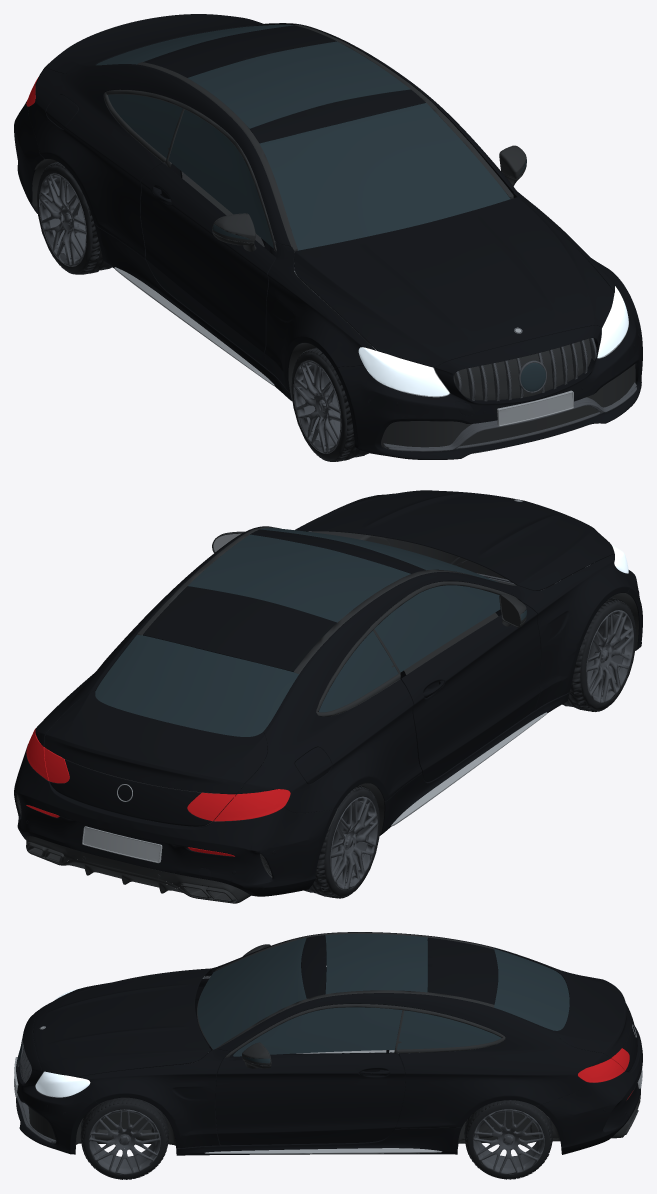
Rendered from hdrp-lab-car-black.glb.
3 renders of one model, top to bottom at view 1: azimuth 30°, elevation 25°; view 2: azimuth 150°, elevation 25°; view 3: azimuth 270°, elevation 25°, orthographic. The views are drawn at different scales.
Visible parts, largest first — view 1: HDRPLab_paint, HDRPLab_glass, HDRPLab_trim, HDRPLab_darkmetal, HDRPLab_rubber, HDRPLab_light, HDRPLab_chrome; view 2: HDRPLab_paint, HDRPLab_glass, HDRPLab_trim, HDRPLab_darkmetal, HDRPLab_rubber, HDRPLab_red, HDRPLab_chrome; view 3: HDRPLab_paint, HDRPLab_glass, HDRPLab_trim, HDRPLab_darkmetal, HDRPLab_rubber, HDRPLab_chrome, HDRPLab_light, HDRPLab_red.
Boxes of the visible parts, box(x1,y1,x2,y2) form: HDRPLab_paint: box(14, 14, 642, 459); HDRPLab_glass: box(96, 24, 545, 391); HDRPLab_trim: box(32, 24, 635, 447); HDRPLab_darkmetal: box(39, 173, 636, 453); HDRPLab_rubber: box(37, 161, 368, 461); HDRPLab_light: box(358, 286, 628, 396); HDRPLab_chrome: box(114, 267, 628, 426); HDRPLab_paint: box(14, 490, 642, 896); HDRPLab_glass: box(95, 528, 526, 736); HDRPLab_trim: box(16, 527, 638, 903); HDRPLab_darkmetal: box(308, 499, 633, 890); HDRPLab_rubber: box(304, 597, 636, 898); HDRPLab_red: box(26, 728, 290, 856); HDRPLab_chrome: box(82, 499, 628, 863); HDRPLab_paint: box(16, 932, 642, 1155); HDRPLab_glass: box(18, 934, 569, 1064); HDRPLab_trim: box(23, 932, 640, 1148); HDRPLab_darkmetal: box(16, 976, 544, 1174); HDRPLab_rubber: box(80, 1097, 552, 1179); HDRPLab_chrome: box(14, 976, 642, 1153); HDRPLab_light: box(35, 987, 90, 1097); HDRPLab_red: box(578, 1048, 633, 1099).
Bounding box in the file's own units: 2.02 × 1.4 × 4.72.
